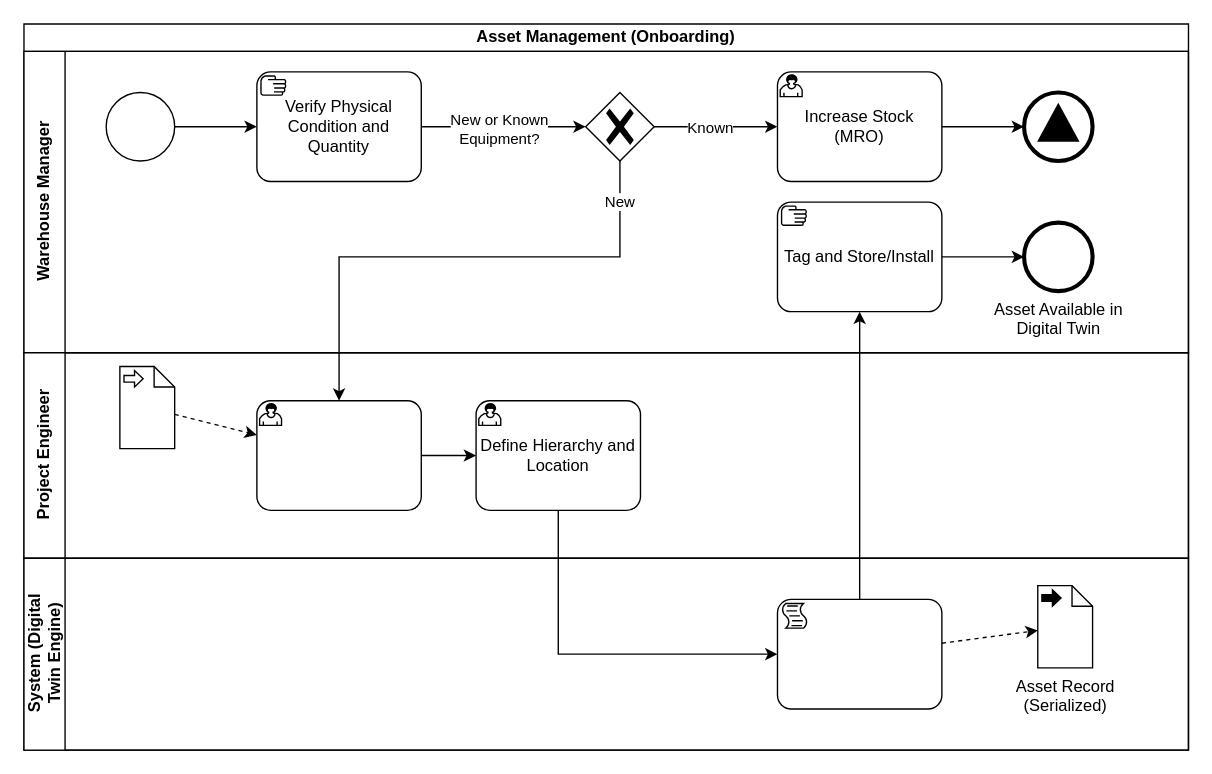
The diagram is 1212 pixels wide and 774 high, and some of its shapes have lost their labels. The centre of each missing label's shape, as x and y in pixels:
Configure ISO 14224 Taxonomy: the point at 338,454
Generate Digital Identity: the point at 859,653
Physical Arrival of Equipment: the point at 140,126
Product Master: the point at 147,407
Transfer to Inventory Management: the point at 1058,126
